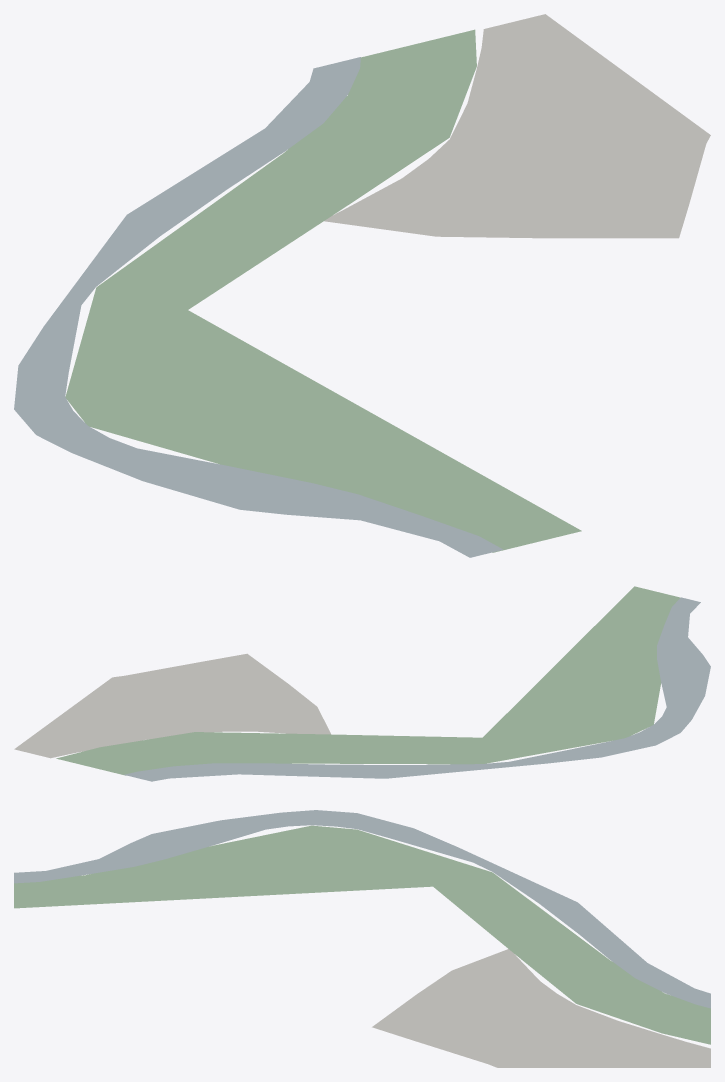
The model's file is 98_95_mid.glb.
3 views of the same model, one above another, from view 1: azimuth 30°, elevation 25°; view 2: azimuth 150°, elevation 25°; view 3: azimuth 270°, elevation 25° (orthographic). The views are drawn at different scales.
Bounding box in the file's own units: 436 × 1.11 × 500.
